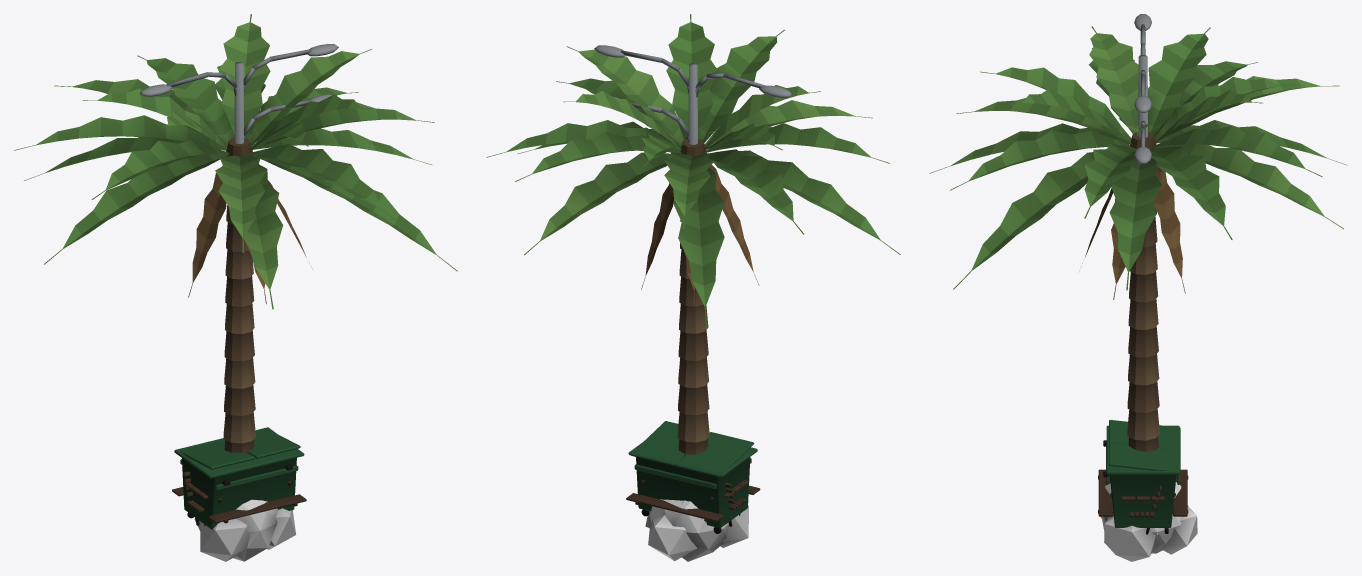
The model's file is props.glb.
The picture shows the model from 3 angles, left to right: view 1: azimuth 30°, elevation 25°; view 2: azimuth 150°, elevation 25°; view 3: azimuth 270°, elevation 25°; orthographic projection.
Parts seen in each view (by area): view 1: palm, dumpster, bush, lamp_double, table; view 2: palm, dumpster, bush, lamp_double, table; view 3: palm, dumpster, bush, table, lamp_double.
Part boxes in pixels (x1,y1,x2,y2): palm: (14,14,457,452); dumpster: (174,427,304,529); bush: (194,499,296,561); lamp_double: (139,44,338,143); table: (172,481,306,523); palm: (486,14,900,455); dumpster: (628,421,757,533); bush: (645,499,748,561); lamp_double: (594,45,792,144); table: (626,480,760,521); palm: (929,26,1347,451); dumpster: (1103,420,1180,533); bush: (1100,482,1197,561); table: (1098,469,1188,516); lamp_double: (1134,14,1151,137).
Size of the model in its own units: 8.03 by 9.71 by 7.44.
